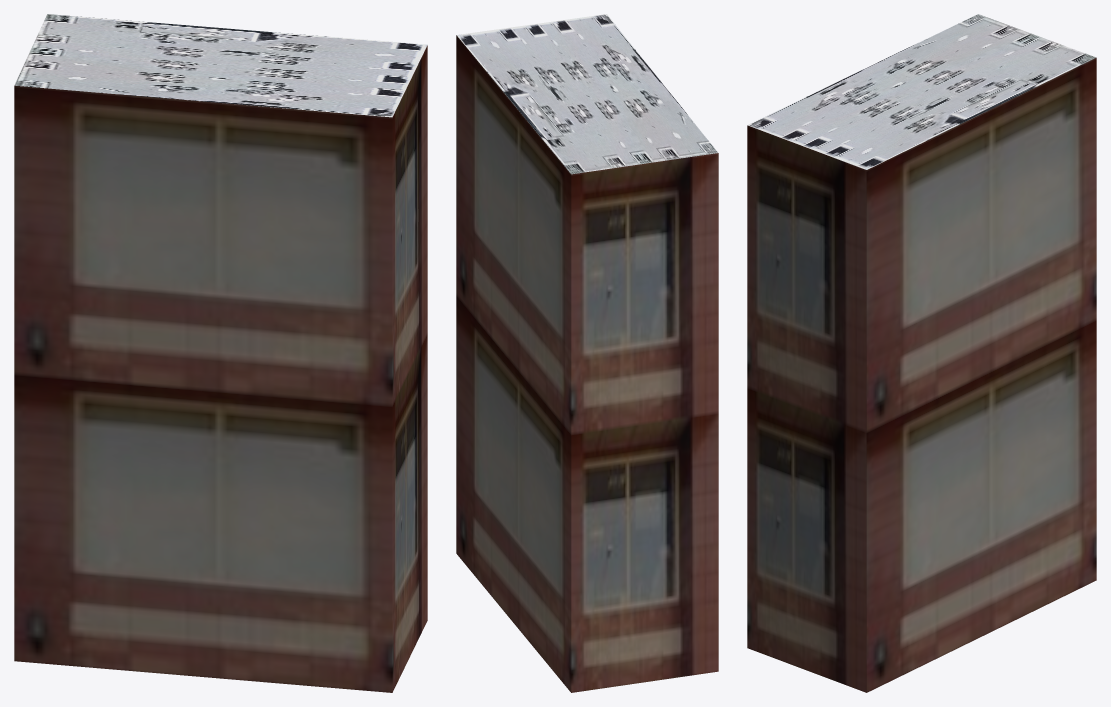
Rendered from ResTex__3010.fbx.
The picture shows the model from 3 angles, left to right: view 1: azimuth 30°, elevation 25°; view 2: azimuth 150°, elevation 25°; view 3: azimuth 270°, elevation 25°; orthographic projection. The views are drawn at different scales.
Visible parts, largest first — view 1: CityEngineMaterial_13_m, CityEngineMaterial_2_m; view 2: CityEngineMaterial_13_m, CityEngineMaterial_2_m; view 3: CityEngineMaterial_13_m, CityEngineMaterial_2_m.
Boxes of the visible parts, x1,y1,x2,y2 form: CityEngineMaterial_13_m: (14, 45, 427, 692); CityEngineMaterial_2_m: (14, 14, 427, 117); CityEngineMaterial_13_m: (456, 35, 718, 692); CityEngineMaterial_2_m: (456, 14, 717, 174); CityEngineMaterial_13_m: (747, 57, 1096, 692); CityEngineMaterial_2_m: (747, 14, 1095, 169).
Bounding box in the file's own units: 3.84 × 6 × 3.63.
Materials: 2 (2 with a texture image).
